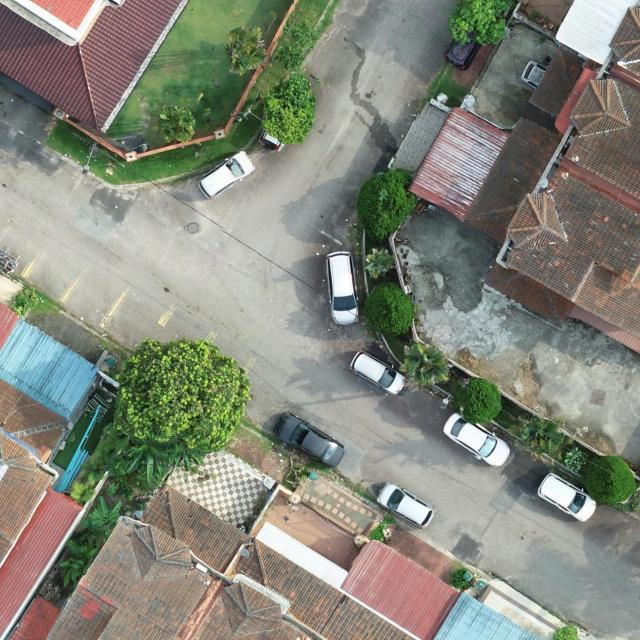Tree: (111, 335, 254, 454), (356, 167, 417, 243), (261, 69, 317, 144), (112, 437, 178, 485), (447, 0, 515, 45), (362, 280, 416, 336), (583, 454, 638, 504), (452, 377, 503, 425), (398, 343, 450, 386), (224, 26, 267, 76), (60, 540, 98, 592), (81, 496, 122, 536), (166, 444, 215, 471), (364, 247, 396, 280), (564, 446, 589, 476)
